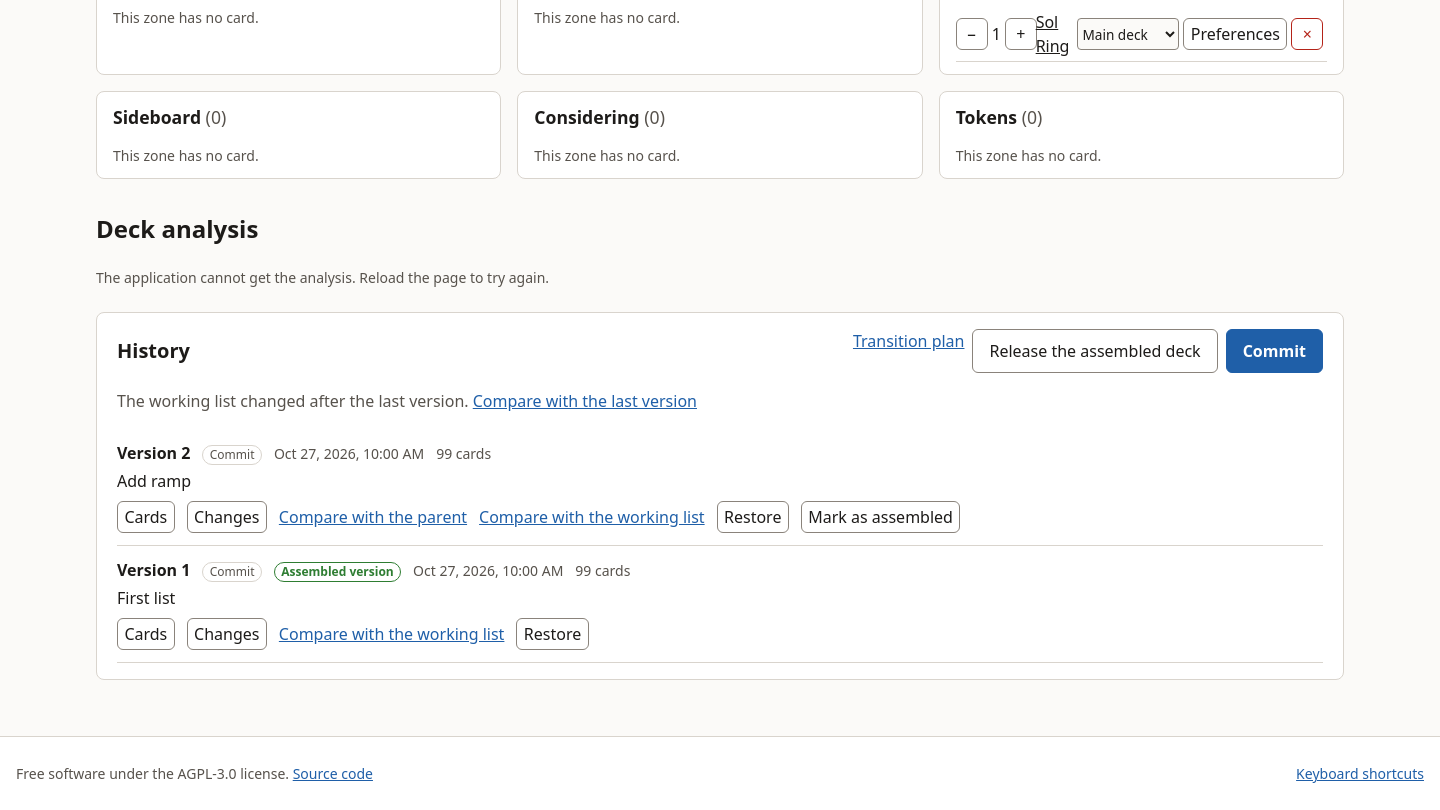
Test case: deck history › restores a version only after the confirmation
(page scrolled)
Expected: the text "Add ramp" is shown, left=117, top=470, right=191, bottom=492
Click the button with aria-label "Restore version 1": click(552, 634) left=516, top=618, right=589, bottom=650
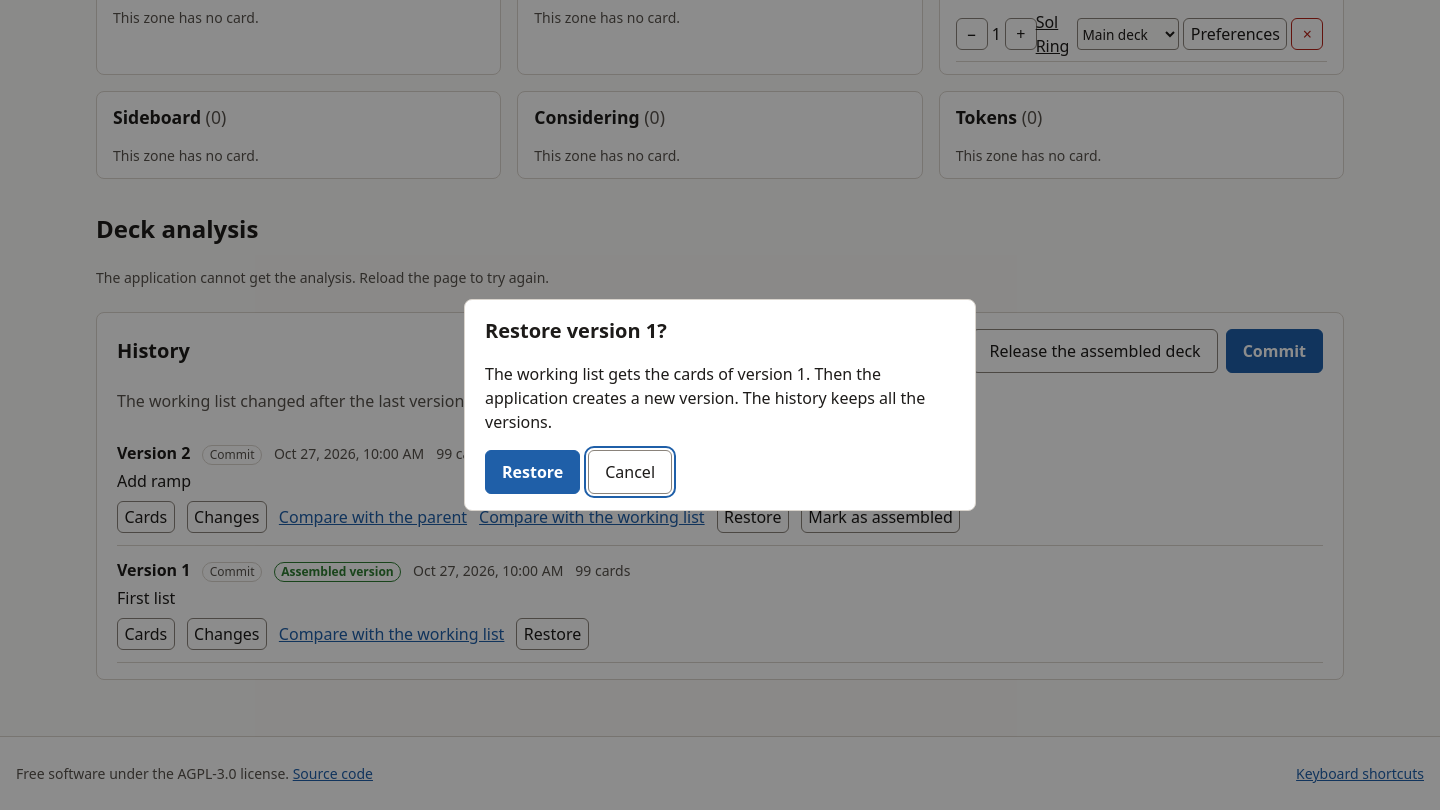
Click the button "Cancel": click(630, 472) left=588, top=450, right=672, bottom=494
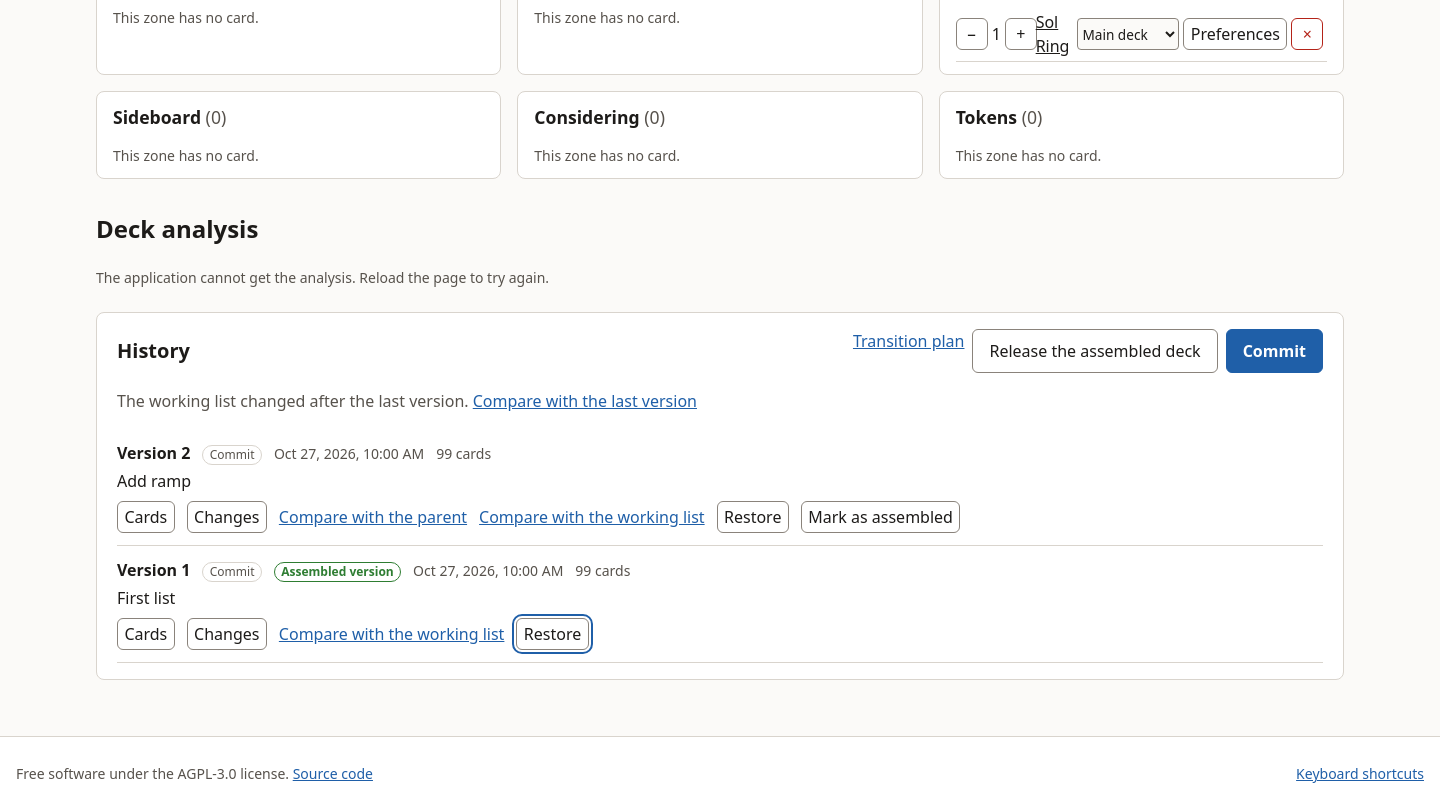
Now the dialog is gone
Click the button with aria-label "Restore version 1": click(552, 634) left=516, top=618, right=589, bottom=650
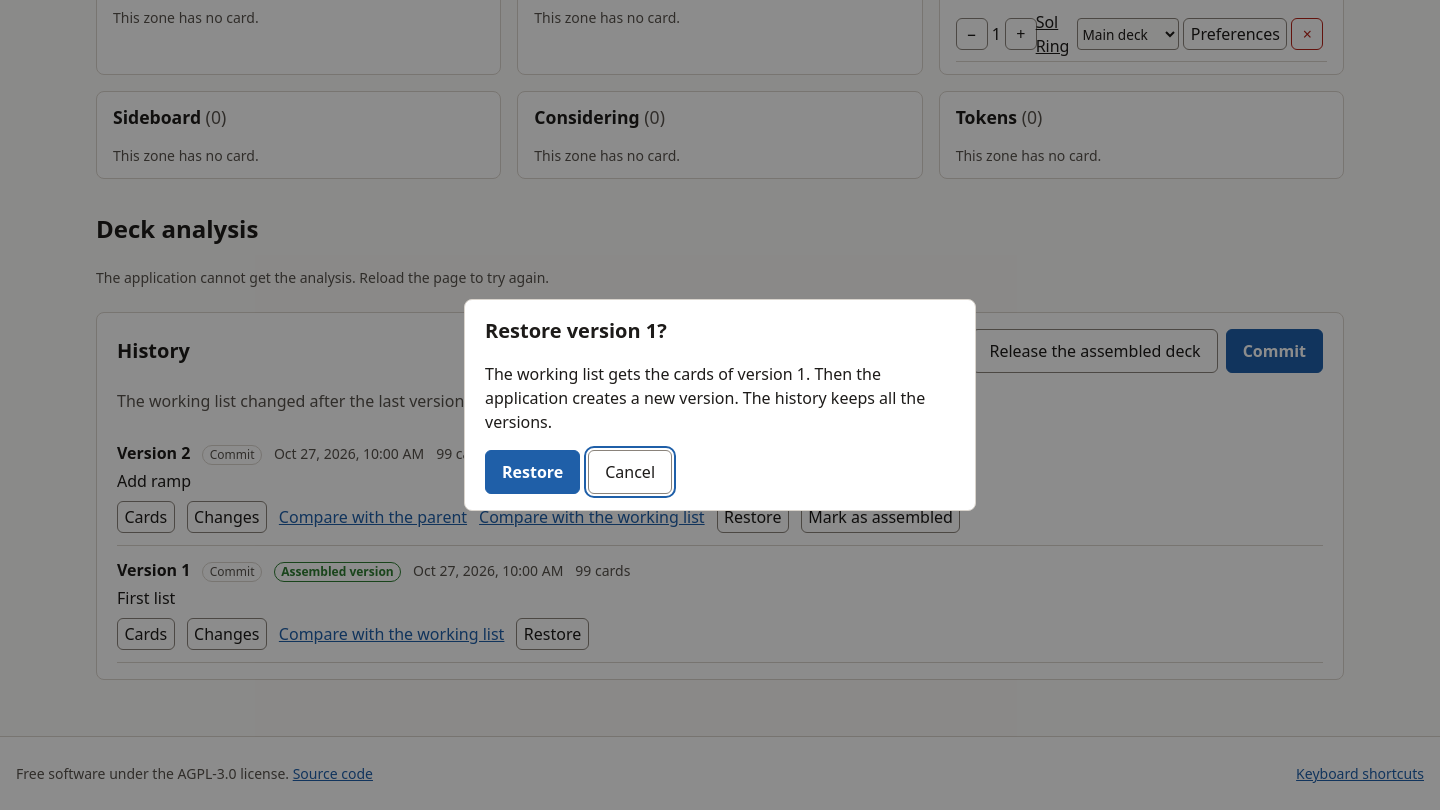
Click the button "Restore": click(533, 472) left=485, top=450, right=580, bottom=494
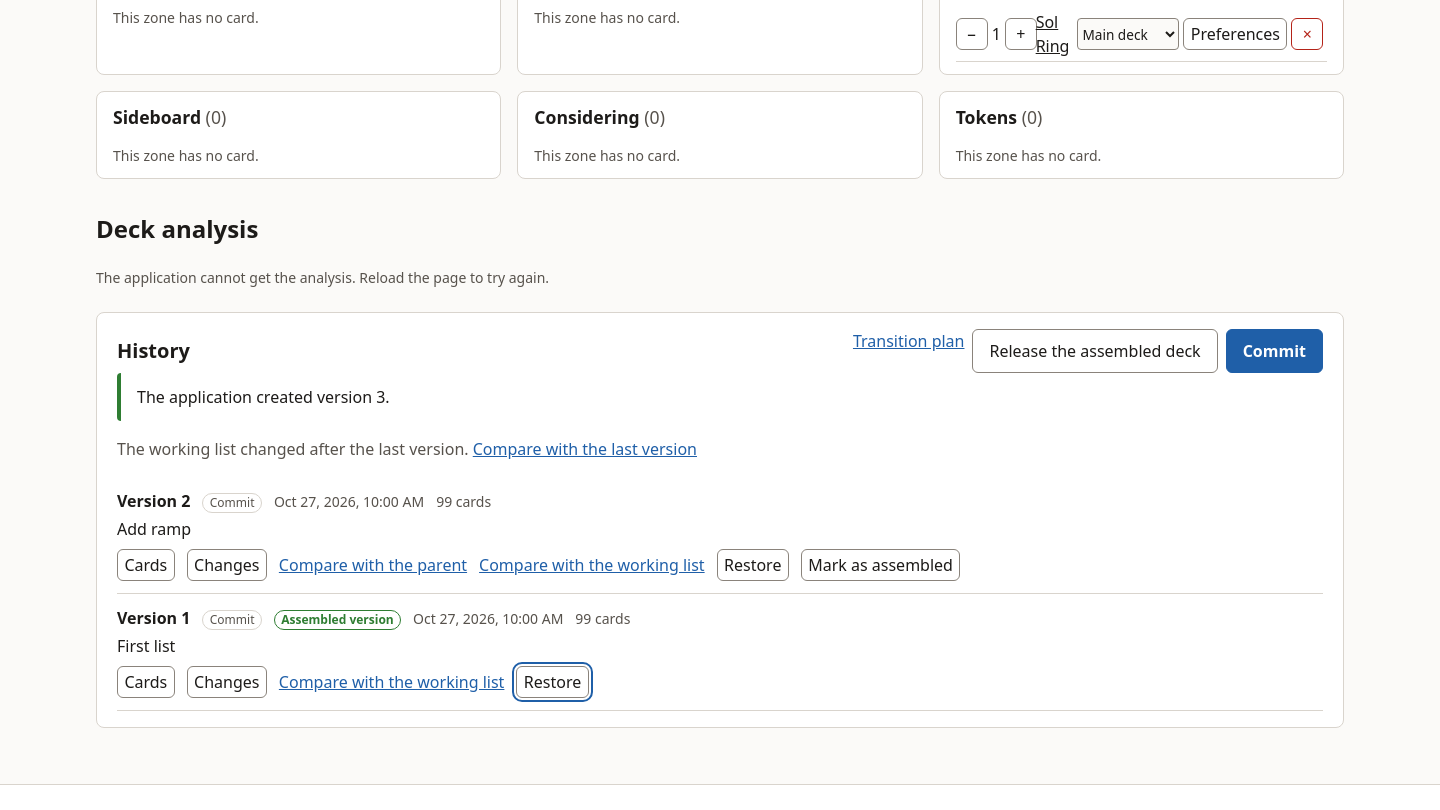
Now the text "The application created version 3." is shown, box left=117, top=373, right=1323, bottom=421
